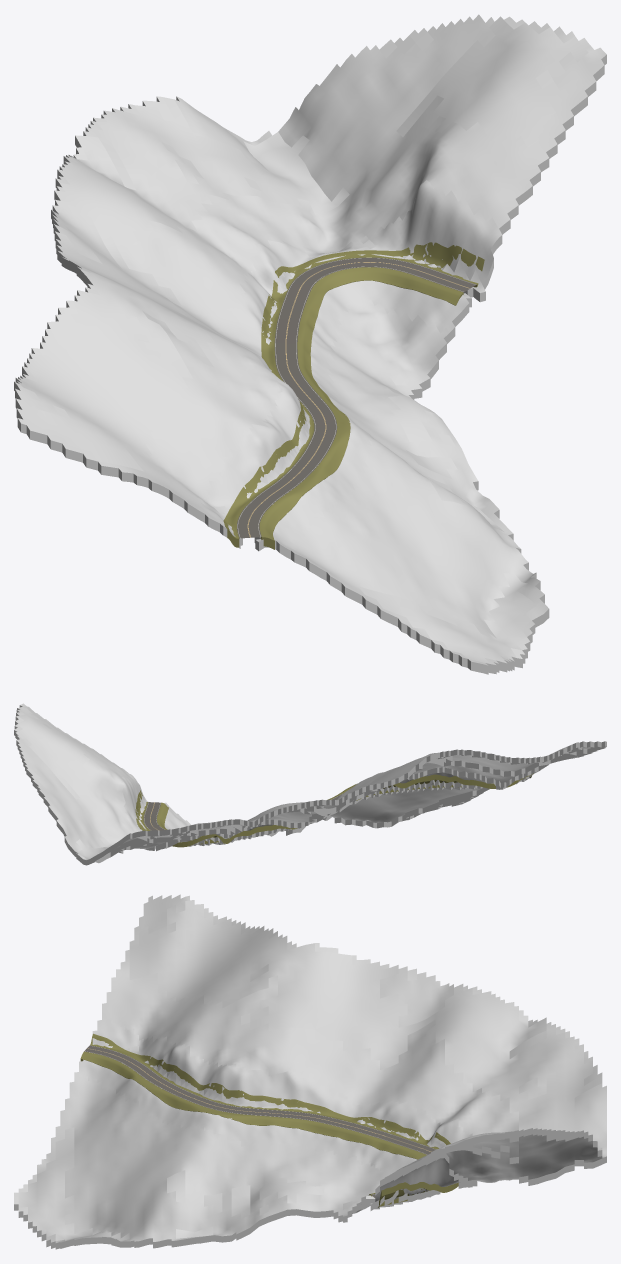
Rendered from conz_169.glb.
3 views of the same model, one above another, from view 1: azimuth 30°, elevation 25°; view 2: azimuth 150°, elevation 25°; view 3: azimuth 270°, elevation 25° (orthographic). The views are drawn at different scales.
Parts seen in each view (by area): view 1: terrain169, road169, verge169L, verge169R; view 2: terrain169, verge169R, road169, verge169L; view 3: terrain169, verge169R, verge169L, road169.
Part boxes in pixels (bbox=[...]): terrain169: bbox=[14, 14, 606, 674]; road169: bbox=[237, 257, 476, 538]; verge169L: bbox=[259, 267, 463, 549]; verge169R: bbox=[223, 242, 484, 547]; terrain169: bbox=[14, 703, 606, 865]; verge169R: bbox=[135, 773, 533, 847]; road169: bbox=[143, 794, 341, 830]; verge169L: bbox=[156, 784, 356, 829]; terrain169: bbox=[14, 894, 606, 1249]; verge169R: bbox=[90, 1033, 458, 1207]; verge169L: bbox=[80, 1051, 426, 1196]; road169: bbox=[84, 1045, 435, 1197].
Size of the model in its own units: 274 by 109 by 256.
